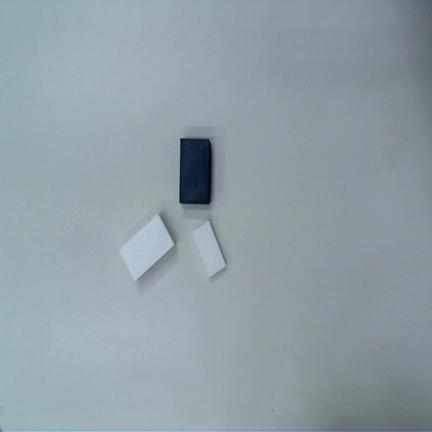Paralelepipedo: (119, 214, 174, 282), (180, 138, 212, 205), (192, 220, 226, 277)
